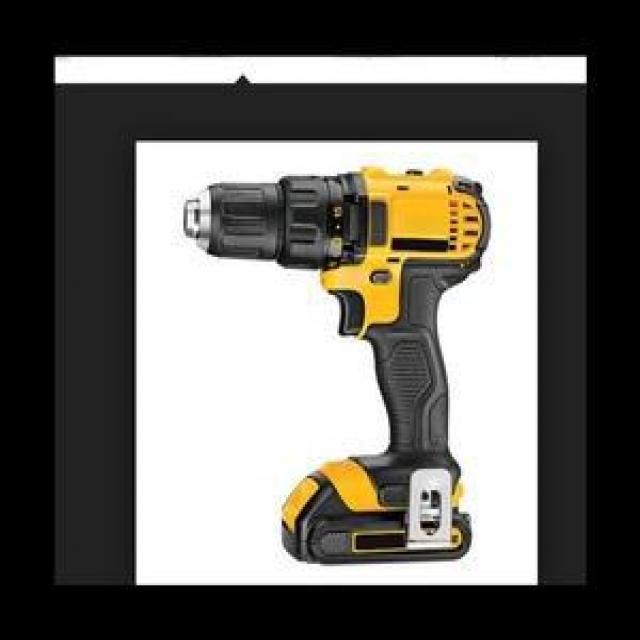drill: (182, 165, 494, 568)
